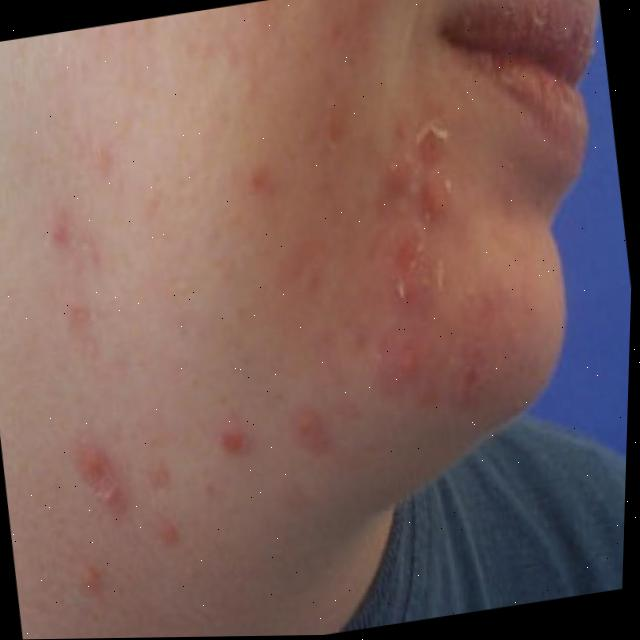Acne: (0, 81, 526, 573)
